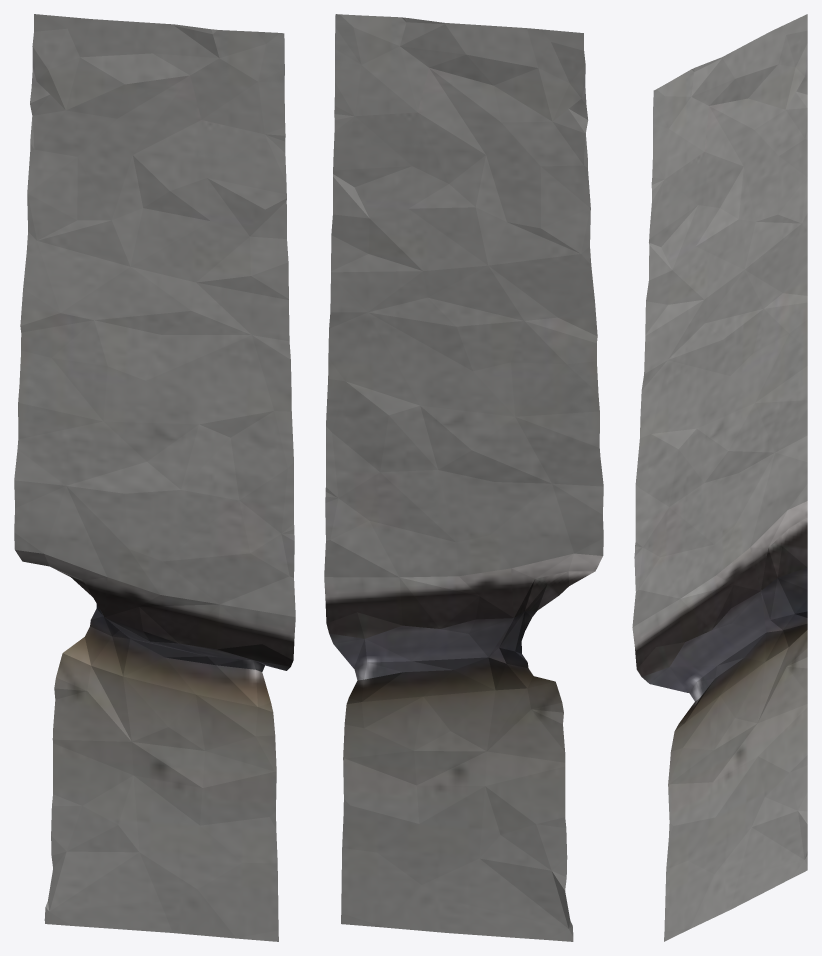
3 views of the same model, side by side, from view 1: azimuth 30°, elevation 25°; view 2: azimuth 210°, elevation 25°; view 3: azimuth 270°, elevation 25° (orthographic). The views are drawn at different scales.
Bounding box in the file's own units: 0.1804 × 0.8373 × 0.156.
Materials: 1 (1 with a texture image).
